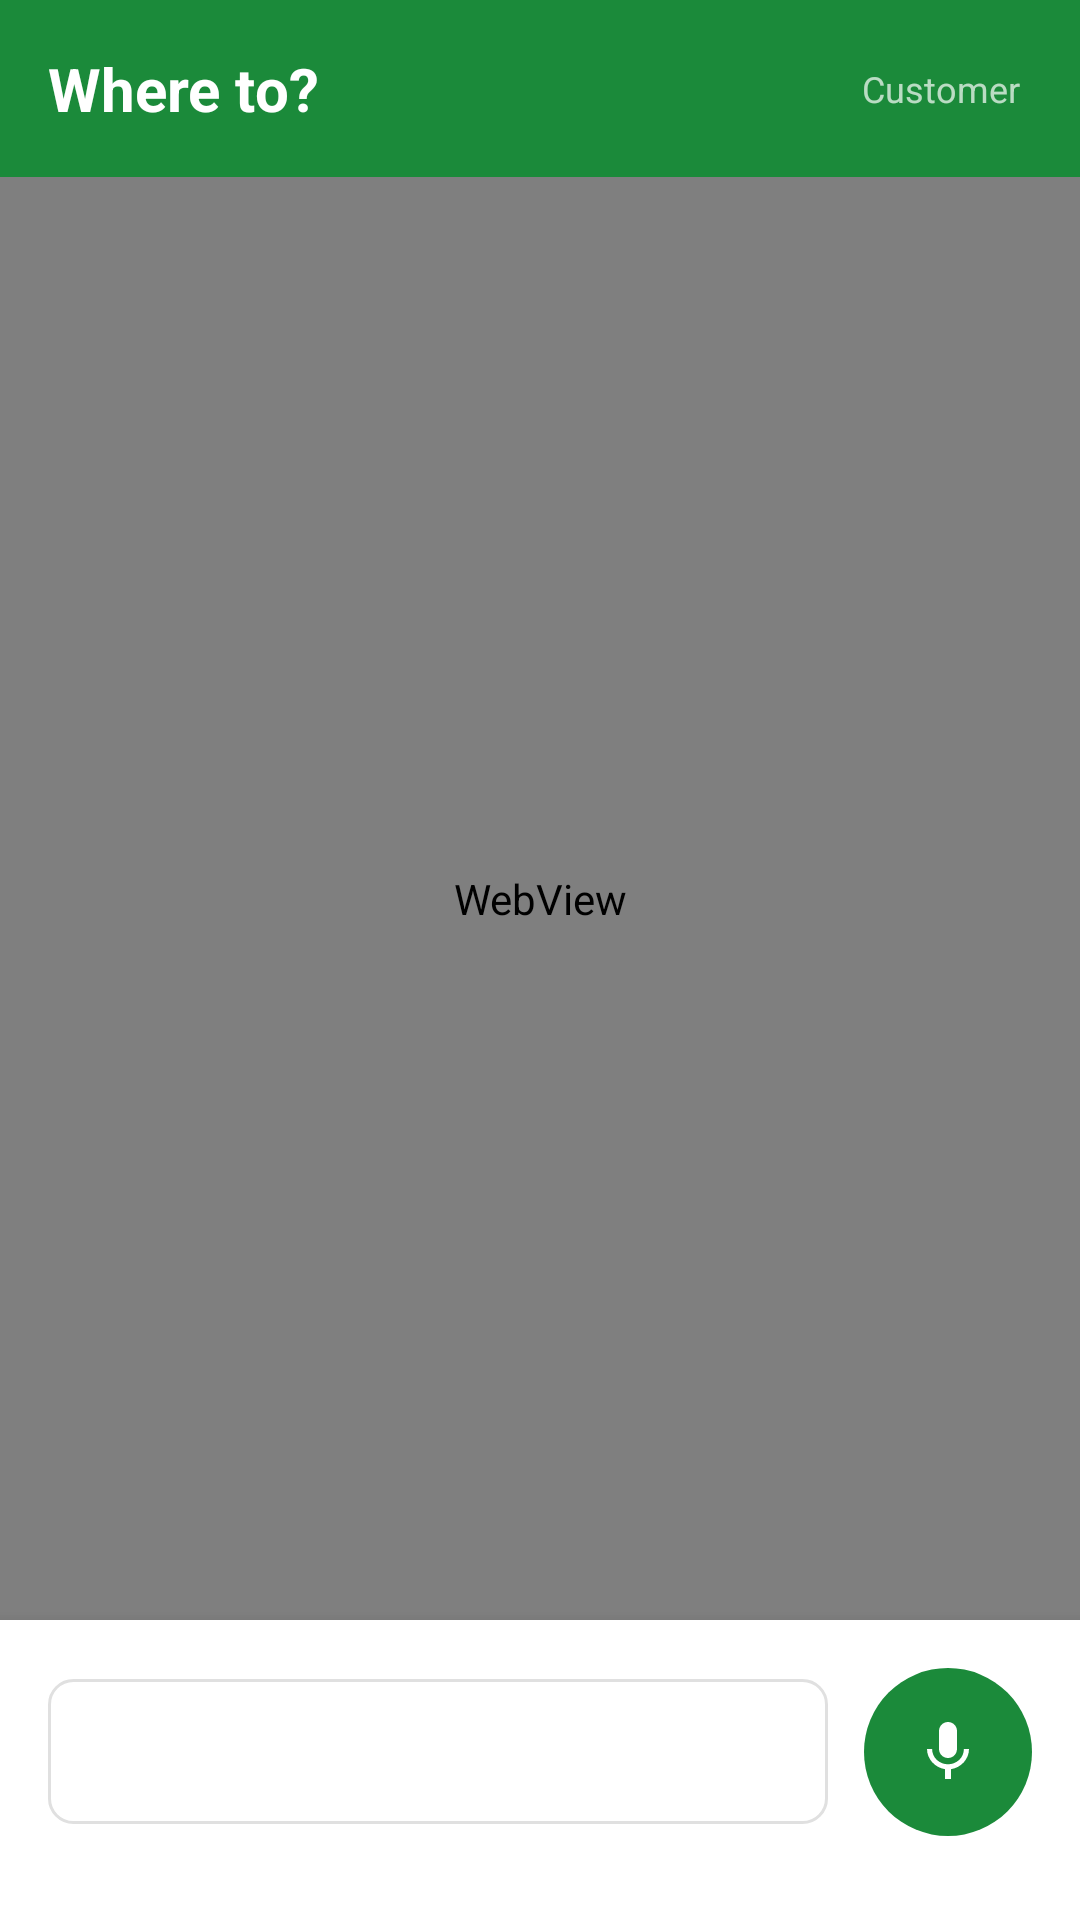

Icon bounding boxes for this 1080px x 1920px phone screenshot, format (x1, y1, x2, y2):
Speak destination: (864, 1668, 1032, 1836)
